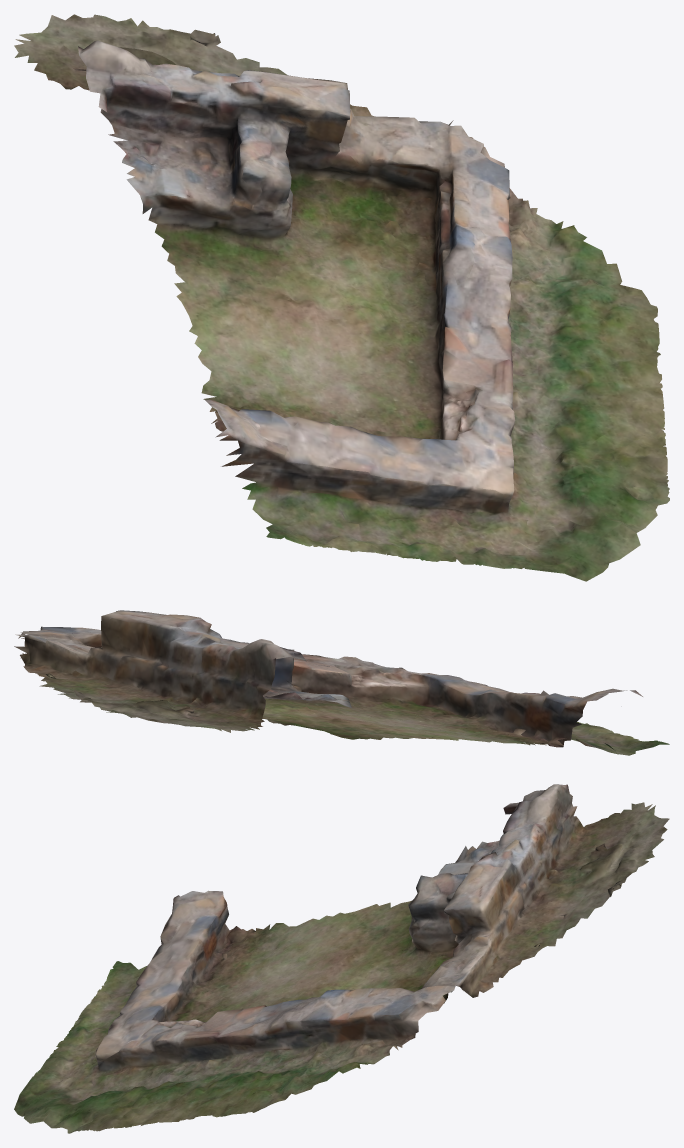
Rendered from cpuzzle500_5.glb.
The picture shows the model from 3 angles, top to bottom: view 1: azimuth 30°, elevation 25°; view 2: azimuth 150°, elevation 25°; view 3: azimuth 270°, elevation 25°; orthographic projection. The views are drawn at different scales.
Parts seen in each view (by area): view 1: Mesh_0.006; view 2: Mesh_0.006; view 3: Mesh_0.006.
Part boxes in pixels (x1,y1,x2,y2): Mesh_0.006: [14, 14, 669, 581]; Mesh_0.006: [14, 610, 669, 755]; Mesh_0.006: [14, 784, 669, 1133].
Size of the model in its own units: 12.19 by 7.8 by 17.47.
1 material, 1 textured.
